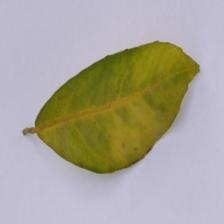greening: (15, 29, 208, 185)
